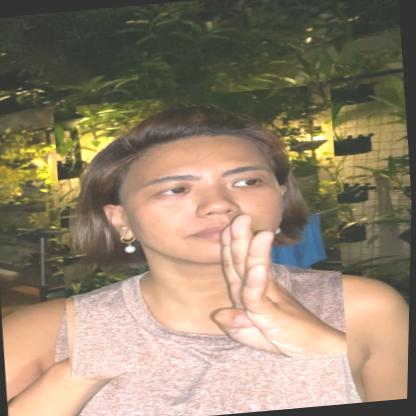Talk: (49, 84, 354, 377)
